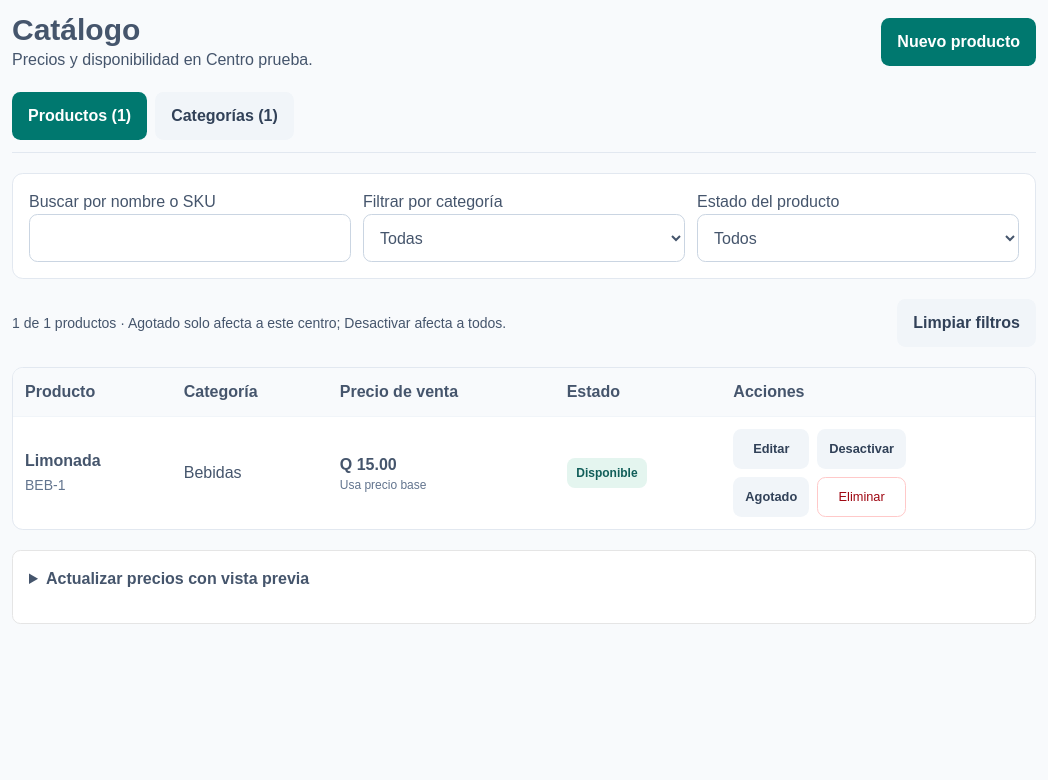
Catálogo ordenado y editable › desactiva y reactiva productos y categorías sin eliminarlos
Click the button with aria-label "Desactivar producto Limonada": (862, 449) [817, 429, 906, 469]
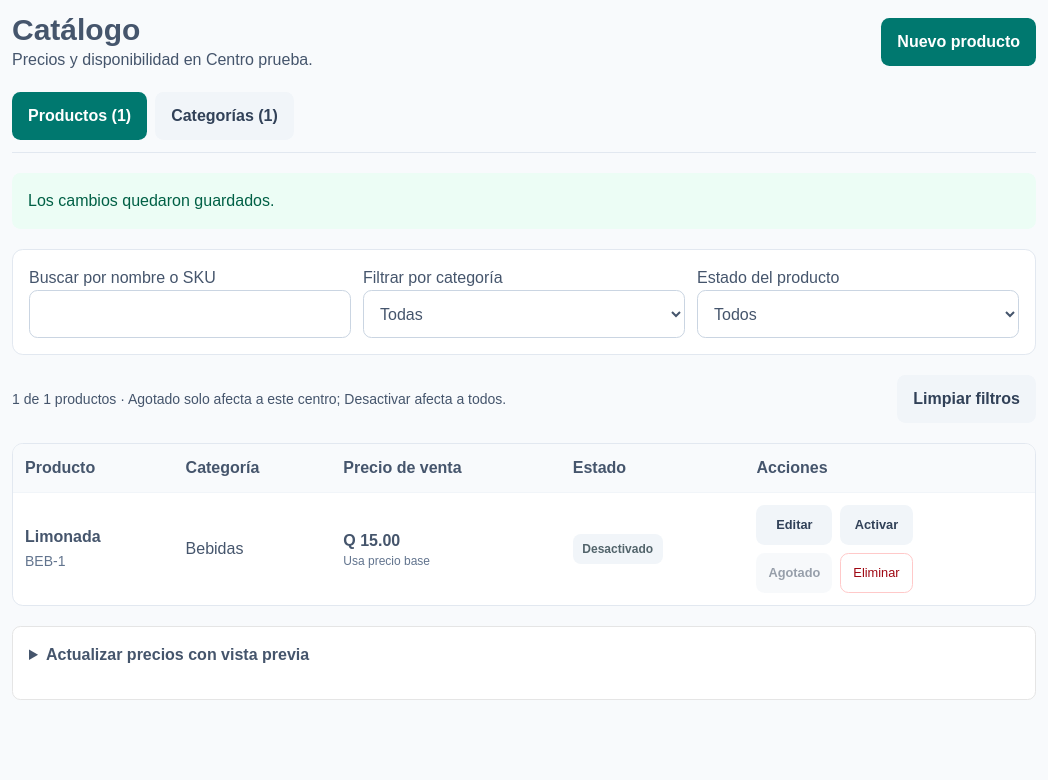
Expected: the text "Desactivado" is shown, [573, 534, 663, 564]
Click the button with aria-label "Activar producto Limonada": (876, 525) [840, 505, 912, 545]
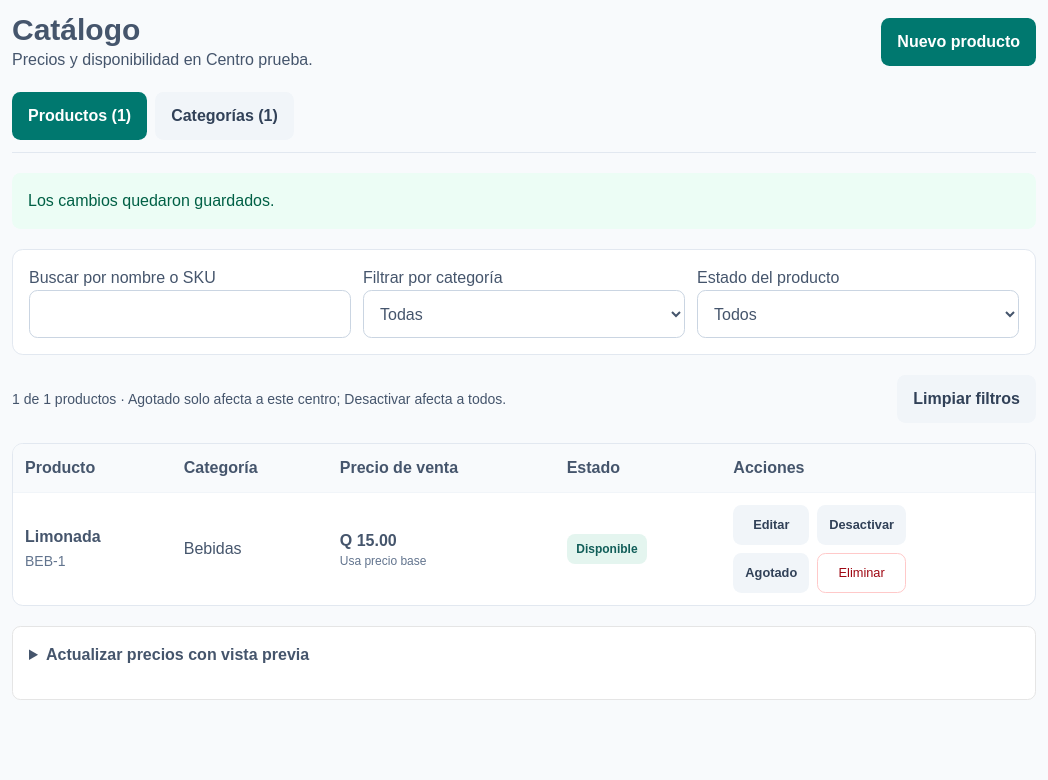
Expected: the button with aria-label "Desactivar producto Limonada" is shown, [817, 505, 906, 545]
Click the button "Categorías (1)": (224, 116) [155, 92, 294, 140]
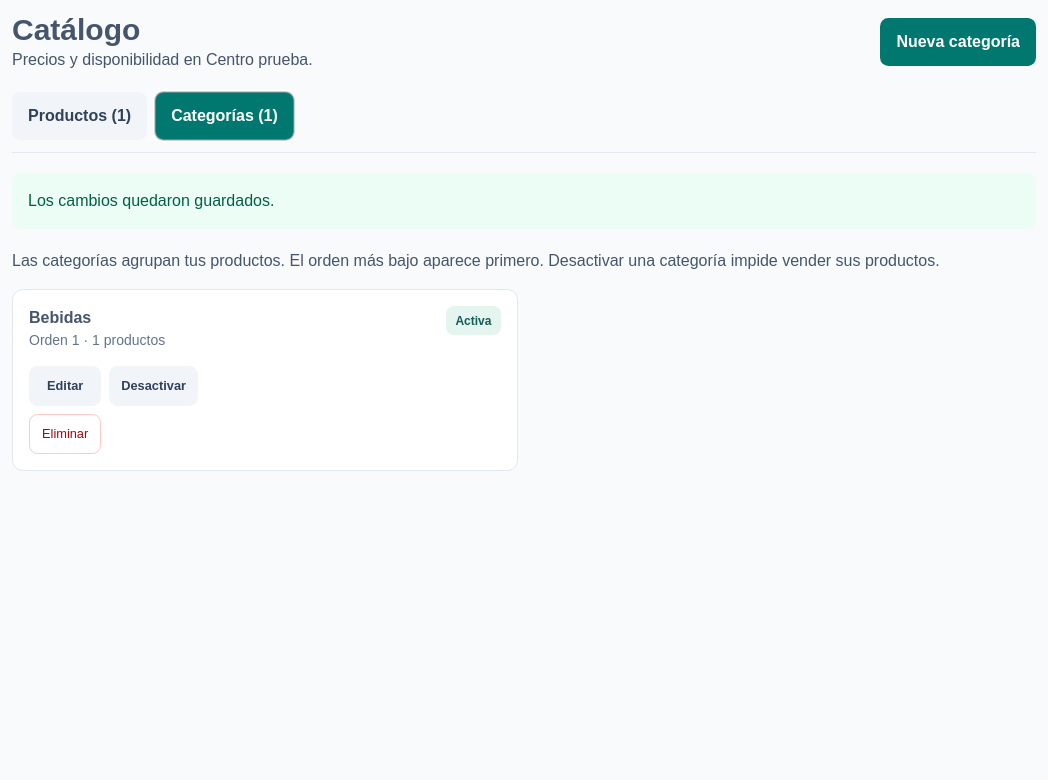
Click the button with aria-label "Desactivar categoría Bebidas": (154, 386) [109, 366, 198, 406]
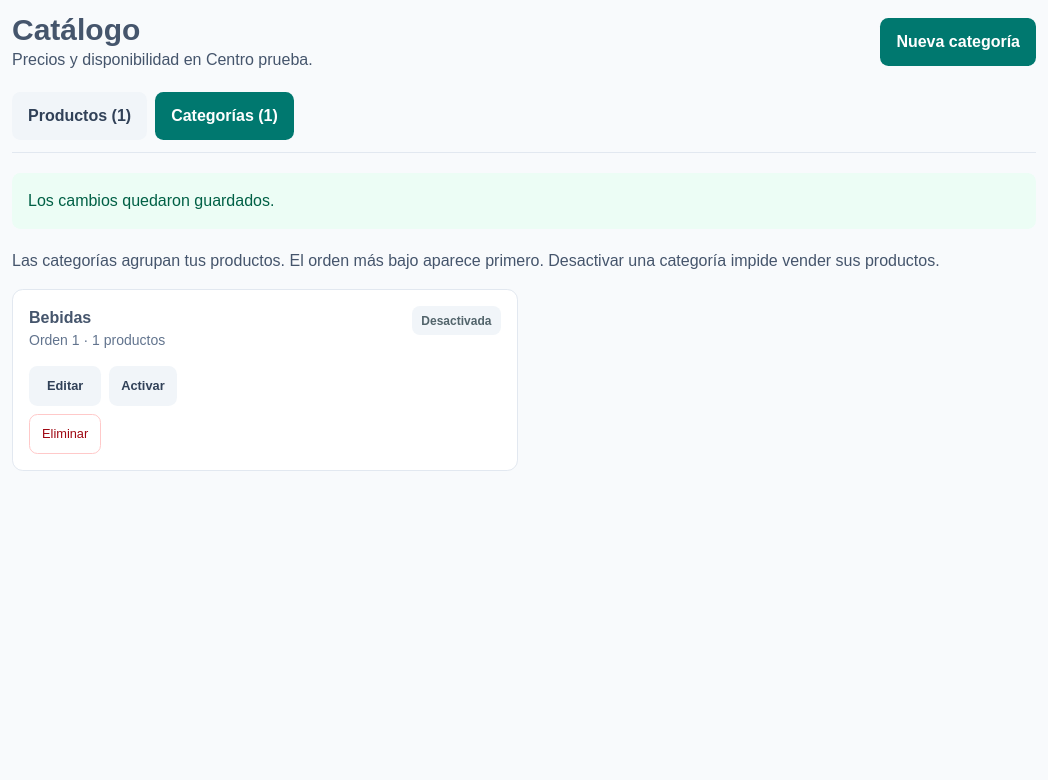
Expected: the button with aria-label "Activar categoría Bebidas" is shown
Click the button with aria-label "Activar categoría Bebidas": (143, 386) [109, 366, 177, 406]
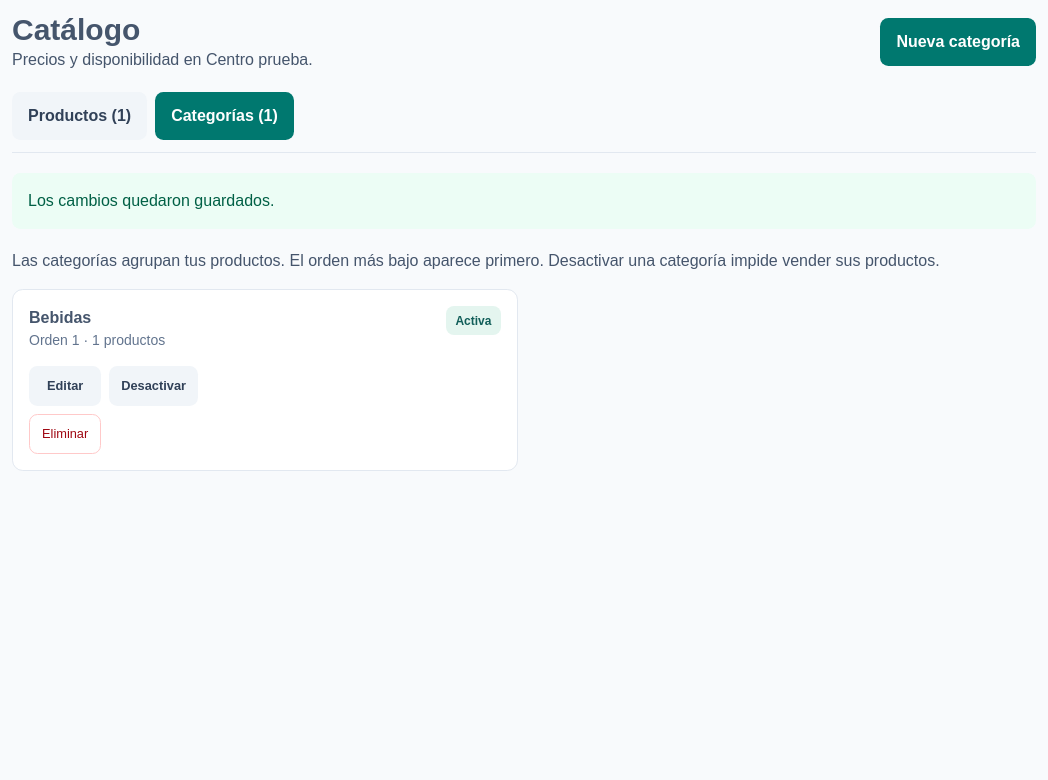
Expected: the button with aria-label "Desactivar categoría Bebidas" is shown, [109, 366, 198, 406]
